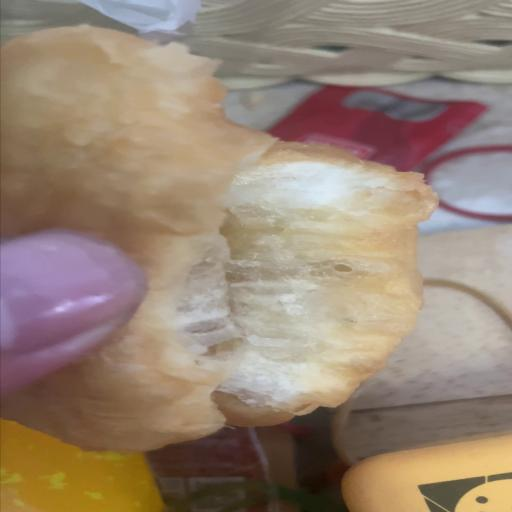street_golden_defect: (2, 70, 425, 451)
